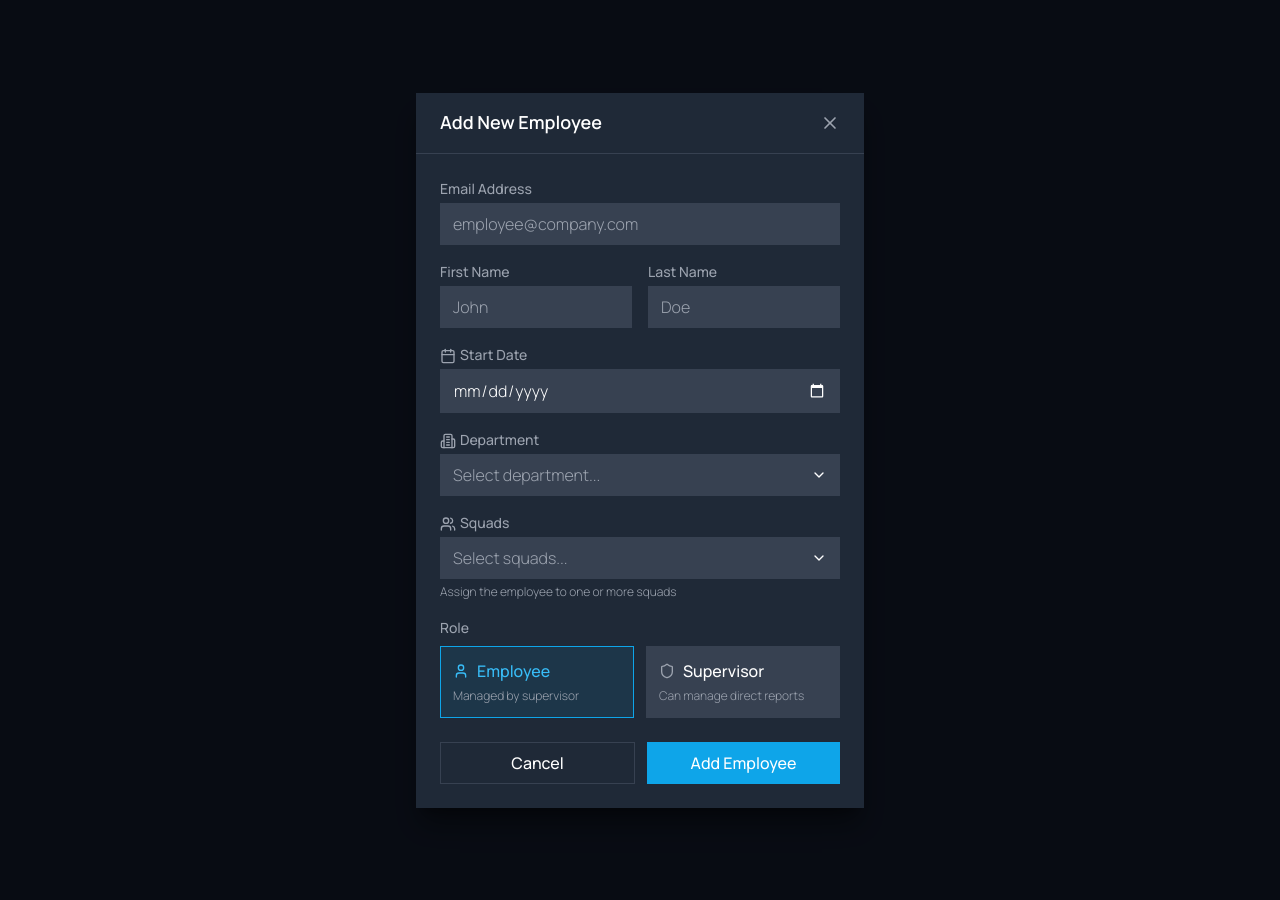
Scenario: CreateEmployeeModal › department dropdown › opens department dropdown on click
What coordinates should you click on to do the following:
click the button "Select department..."
I would click on:
 (527, 474)
Its box is x1=440 y1=454 x2=840 y2=496.
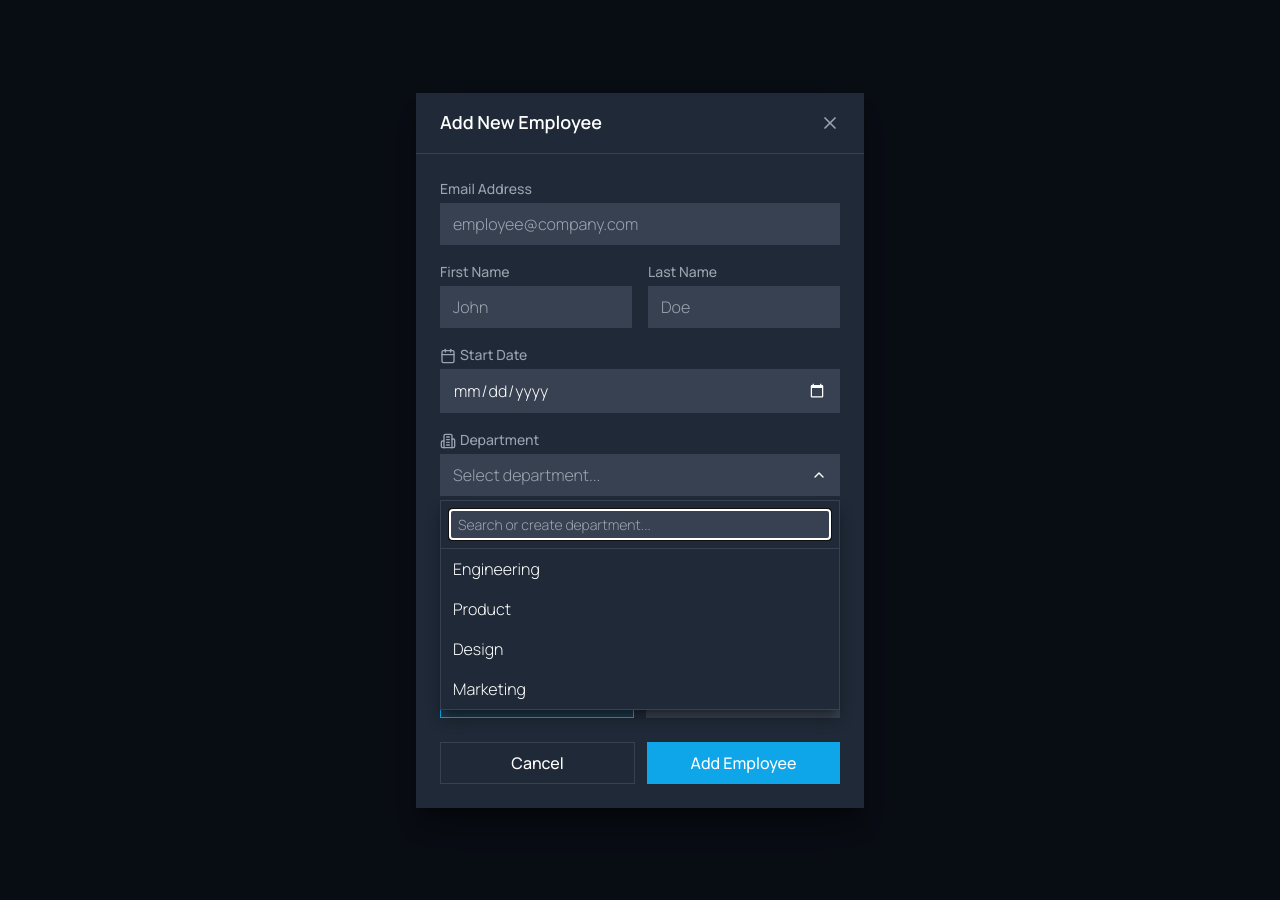
Now the button "Engineering" is shown, box x1=441 y1=548 x2=839 y2=588
Now the button "Product" is shown, box x1=441 y1=588 x2=839 y2=628
